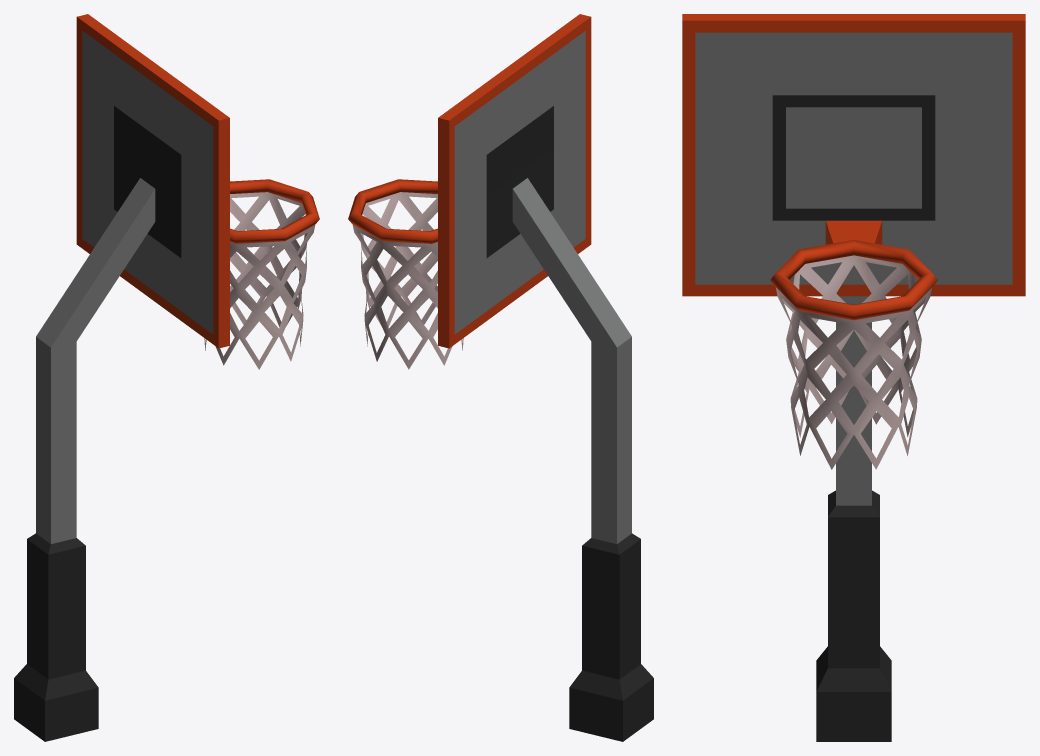
3 renders of one model, left to right at view 1: azimuth 30°, elevation 25°; view 2: azimuth 150°, elevation 25°; view 3: azimuth 270°, elevation 25°, orthographic. The views are drawn at different scales.
Parts seen in each view (by area): view 1: ro1; view 2: ro1; view 3: ro1.
Boxes of the visible parts, x1,y1,x2,y2 form: ro1: (14, 14, 319, 741); ro1: (348, 14, 653, 741); ro1: (682, 14, 1025, 741).
Size of the model in its own units: 440 by 940 by 382.
